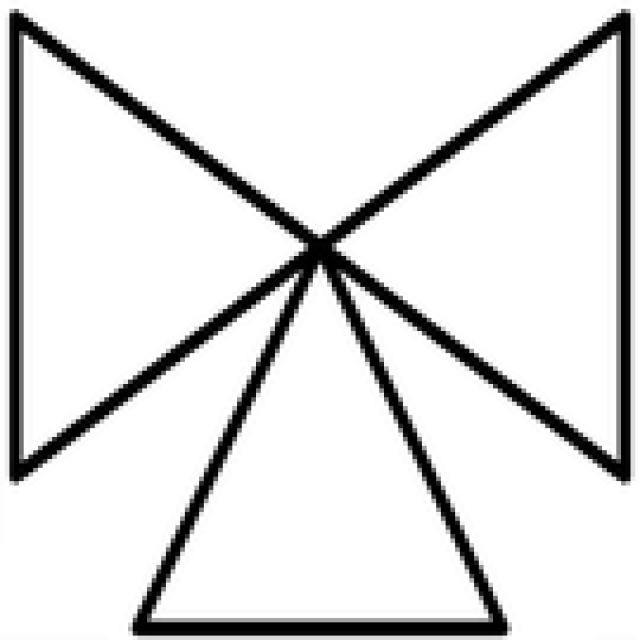3-way Valve: (9, 9, 626, 631)
